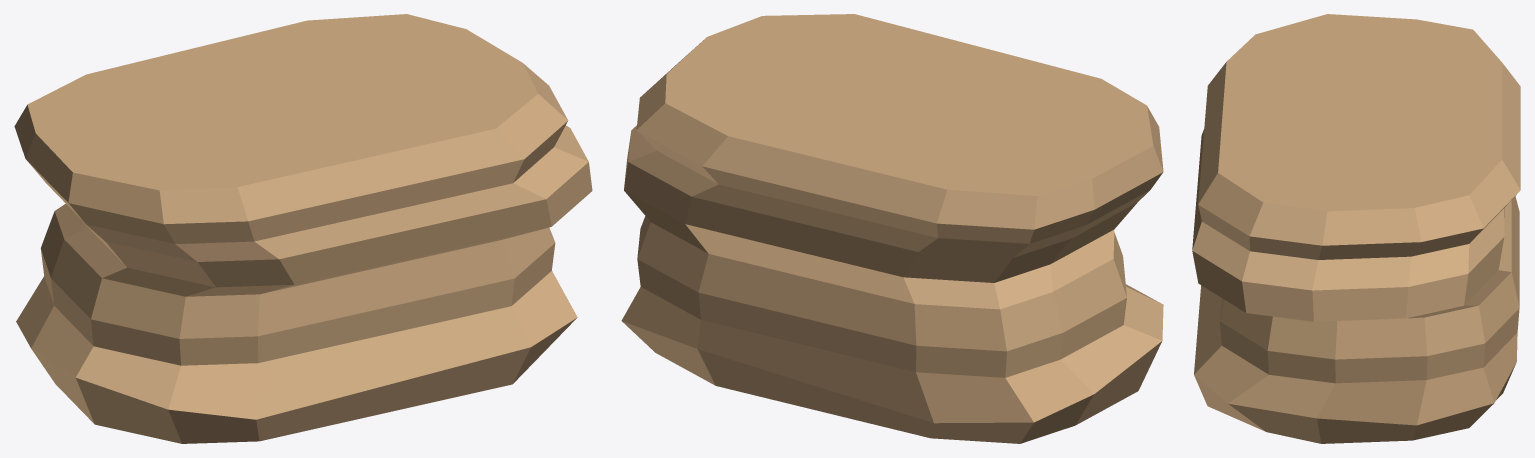
Rendered from Rock_Flat_l_04.fbx.
3 renders of one model, left to right at view 1: azimuth 30°, elevation 25°; view 2: azimuth 150°, elevation 25°; view 3: azimuth 270°, elevation 25°, orthographic. The views are drawn at different scales.
Visible parts, largest first — view 1: Rock_Flat_l_04; view 2: Rock_Flat_l_04; view 3: Rock_Flat_l_04.
Boxes of the visible parts, x1,y1,x2,y2 form: Rock_Flat_l_04: (14, 14, 592, 443); Rock_Flat_l_04: (621, 14, 1163, 443); Rock_Flat_l_04: (1192, 14, 1520, 443).
Bounding box in the file's own units: 256 × 124 × 161.
